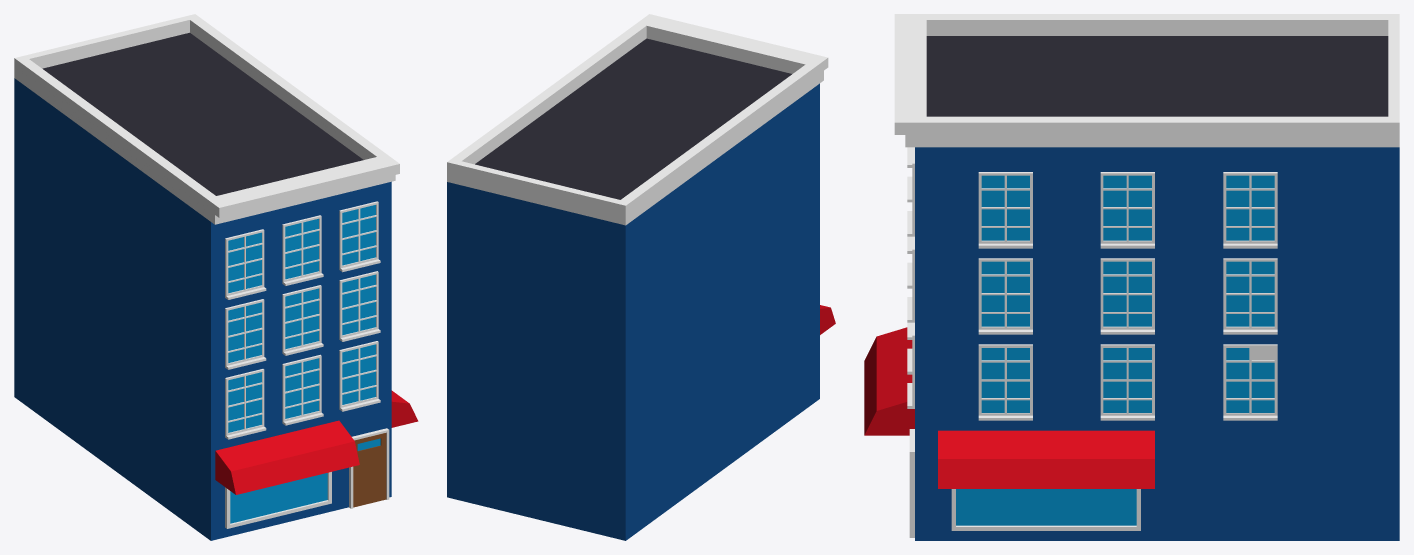
The model's file is Building_15.fbx.
3 views of the same model, side by side, from view 1: azimuth 30°, elevation 25°; view 2: azimuth 150°, elevation 25°; view 3: azimuth 270°, elevation 25° (orthographic). The views are drawn at different scales.
Parts seen in each view (by area): view 1: B15; view 2: B15; view 3: B15.
Part boxes in pixels (x1=…): B15: x1=14, y1=14, x2=418, y2=540; B15: x1=447, y1=14, x2=835, y2=540; B15: x1=864, y1=14, x2=1399, y2=540.
Size of the model in its own units: 11.38 by 17 by 19.73.
1 material, 1 textured.
